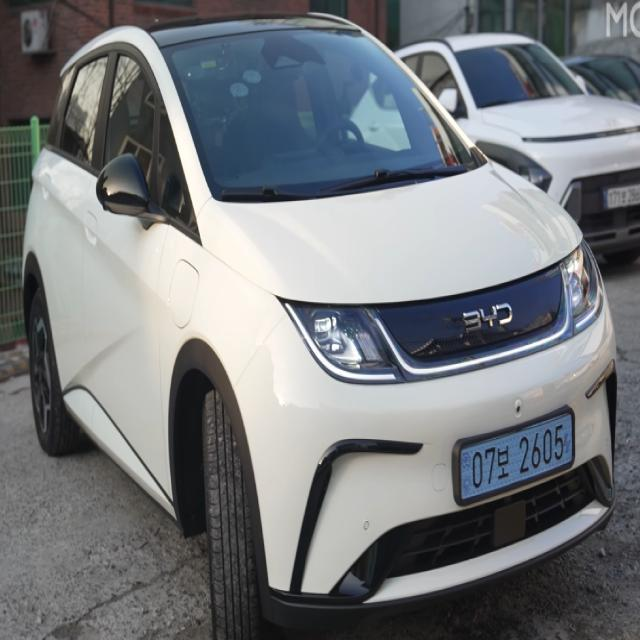car: (436, 400, 584, 514)
carev: (454, 440, 473, 504), (560, 411, 575, 464)
